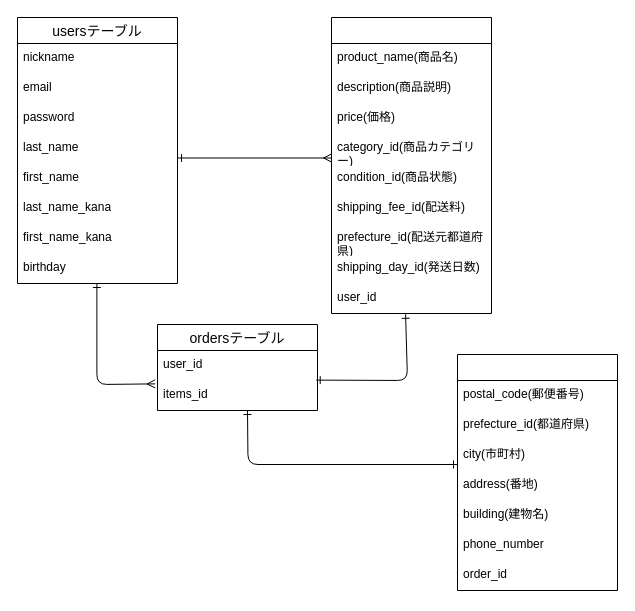
This 635x611 diagram has some shape labels left out. The box of each missing label's shape, as (x1, y1, x2, y2) in pixels:
addressテーブル: (456, 354, 618, 590)
itemsテーブル: (330, 16, 492, 314)
